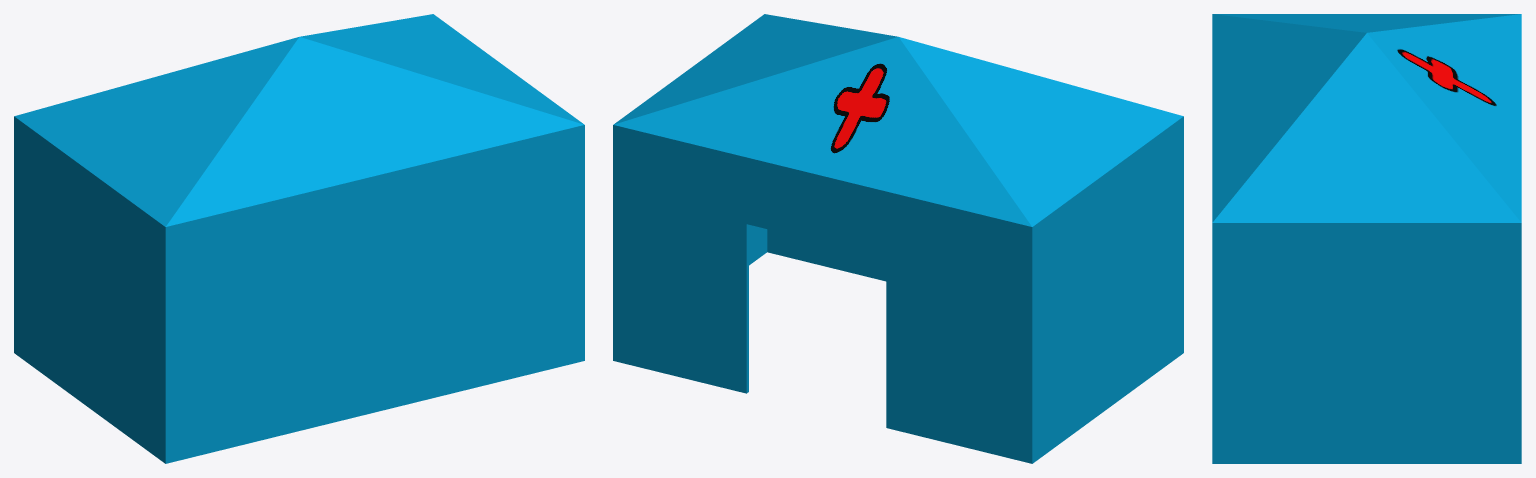
Rendered from ModelCarpa.fbx.
The picture shows the model from 3 angles, left to right: view 1: azimuth 30°, elevation 25°; view 2: azimuth 150°, elevation 25°; view 3: azimuth 270°, elevation 25°; orthographic projection. The views are drawn at different scales.
Visible parts, largest first — view 1: Plane; view 2: Plane; view 3: Plane.
Boxes of the visible parts, left/top/right/bottom form: Plane: left=14, top=14, right=584, bottom=463; Plane: left=613, top=14, right=1183, bottom=463; Plane: left=1212, top=14, right=1521, bottom=463.
Size of the model in its own units: 729 by 533 by 456.
Materials: 1 (1 with a texture image).
